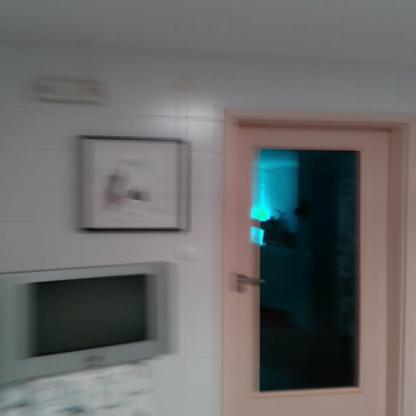door: (239, 127, 392, 415)
lever: (236, 274, 272, 288)
